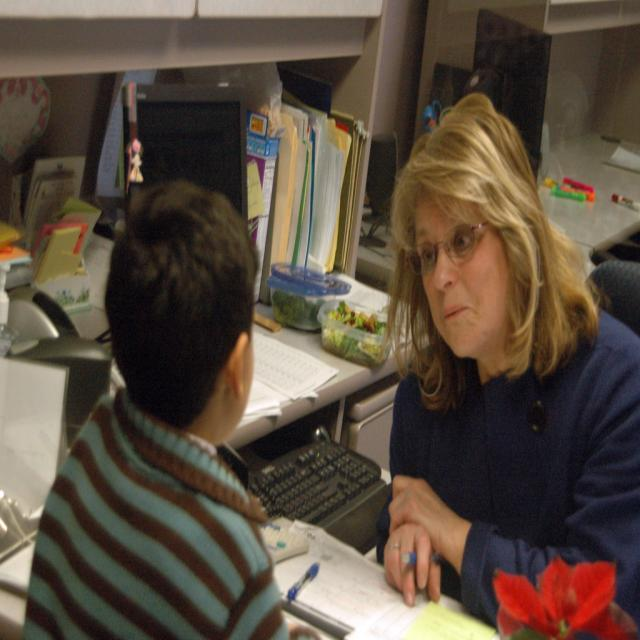chair: (587, 260, 640, 337)
desk: (0, 265, 436, 476)
keyboard: (244, 428, 387, 554)
person: (377, 96, 640, 624), (24, 177, 307, 638)
